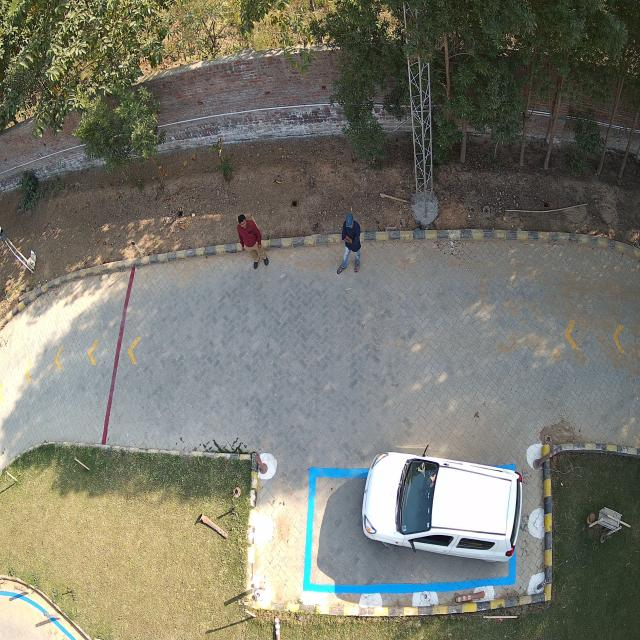car: (362, 452, 524, 562)
